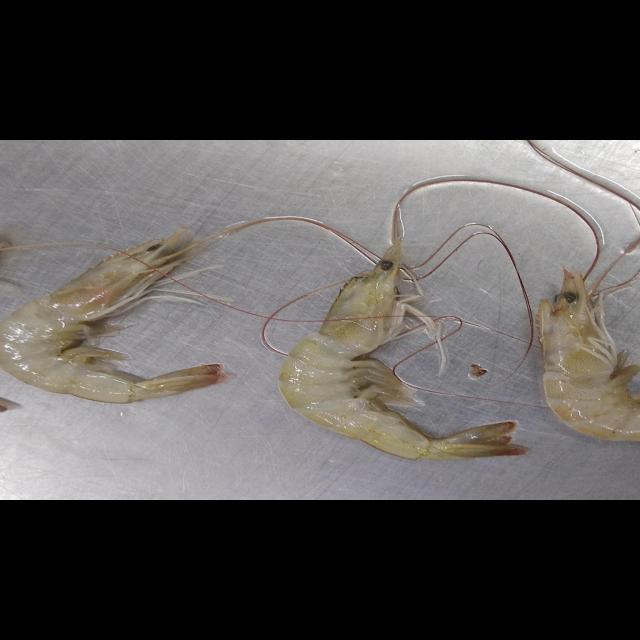shrimp: (280, 222, 524, 460), (0, 230, 224, 404), (538, 271, 640, 441)
